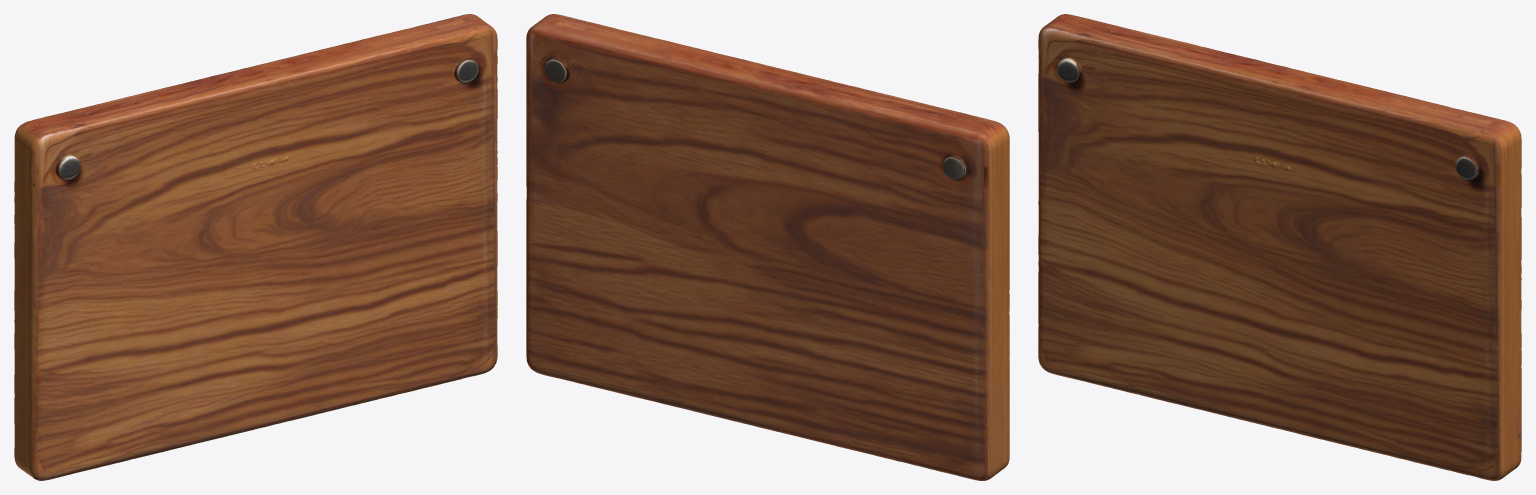
The model's file is Wooden_Wall_Sign_0918091024_texture.fbx.
3 renders of one model, left to right at view 1: azimuth 30°, elevation 25°; view 2: azimuth 150°, elevation 25°; view 3: azimuth 330°, elevation 25°, orthographic.
Visible parts, largest first — view 1: input; view 2: input; view 3: input.
Boxes of the visible parts, box(x1,y1,x2,y2) form: input: box(14, 14, 497, 480); input: box(526, 14, 1009, 480); input: box(1038, 14, 1521, 480).
Bounding box in the file's own units: 190 × 136 × 18.86.
Materials: 1 (1 with a texture image).
